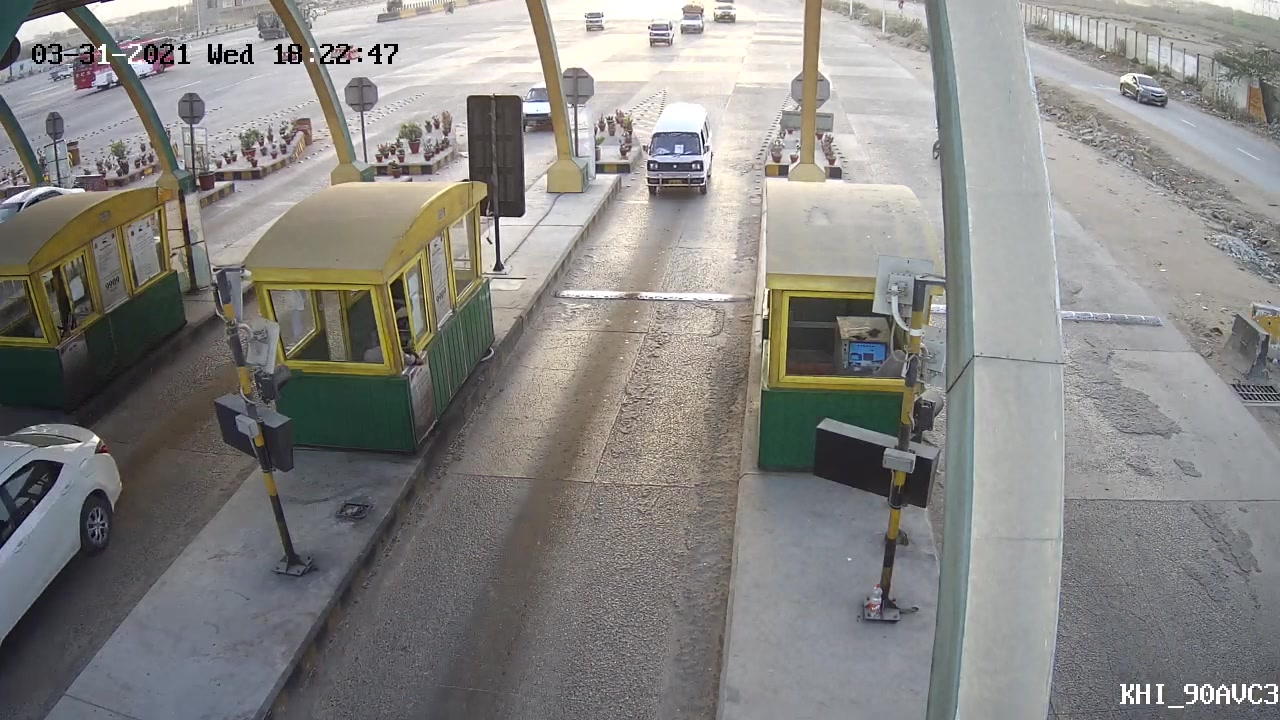F2: (637, 102, 718, 206)
